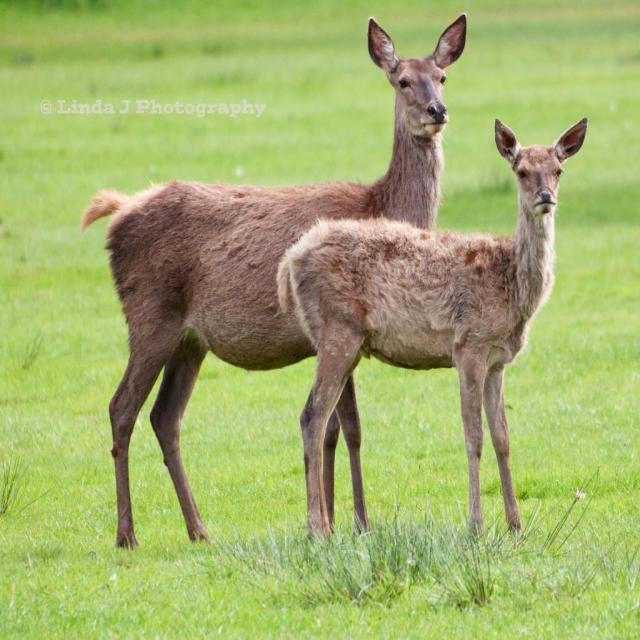Deer: (82, 14, 467, 542), (276, 119, 586, 554)
